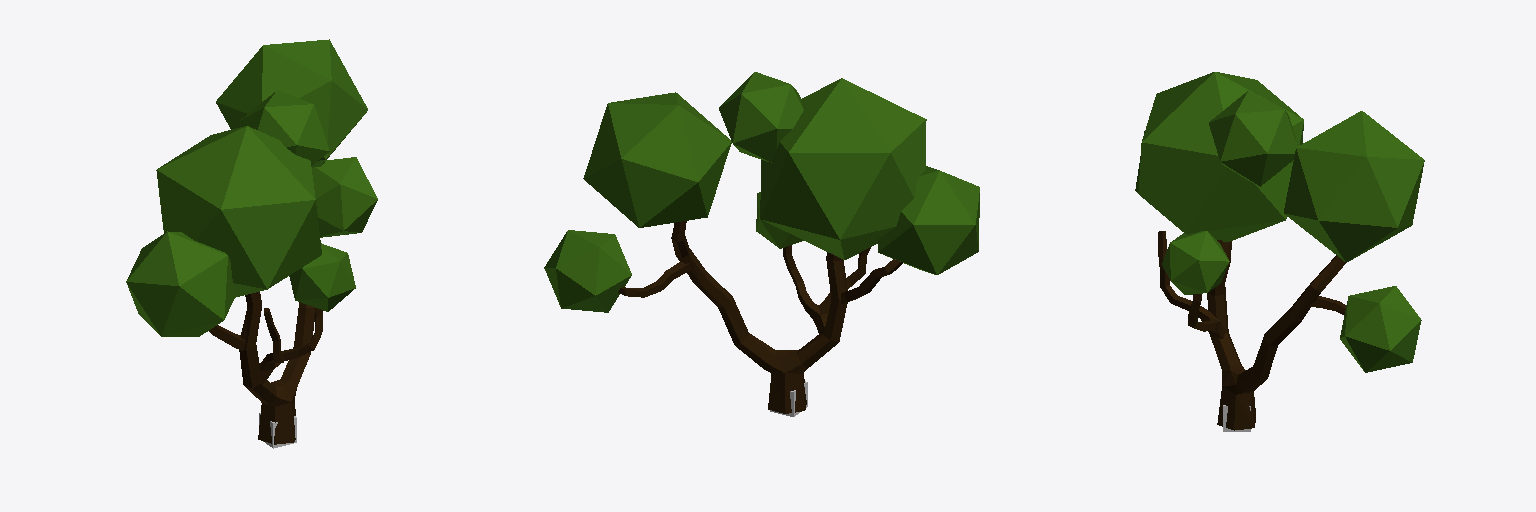
Rendered from Lowpoly_tree.obj.
3 views of the same model, side by side, from view 1: azimuth 30°, elevation 25°; view 2: azimuth 150°, elevation 25°; view 3: azimuth 270°, elevation 25° (orthographic).
Parts seen in each view (by area): view 1: Tree_lp_11; view 2: Tree_lp_11; view 3: Tree_lp_11.
Part boxes in pixels (x1,y1,x2,y2): Tree_lp_11: (126, 39, 377, 444); Tree_lp_11: (544, 72, 979, 413); Tree_lp_11: (1135, 72, 1424, 430).
Bounding box in the file's own units: 27.98 × 26.8 × 20.8.